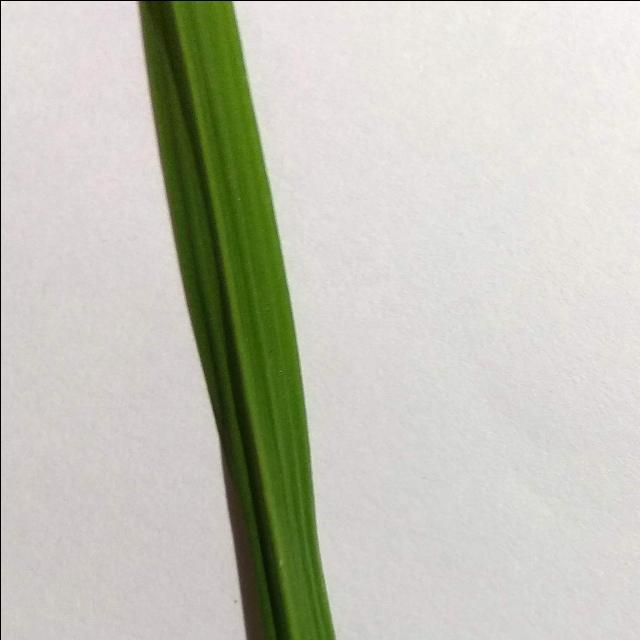healthy: (136, 0, 337, 640)
